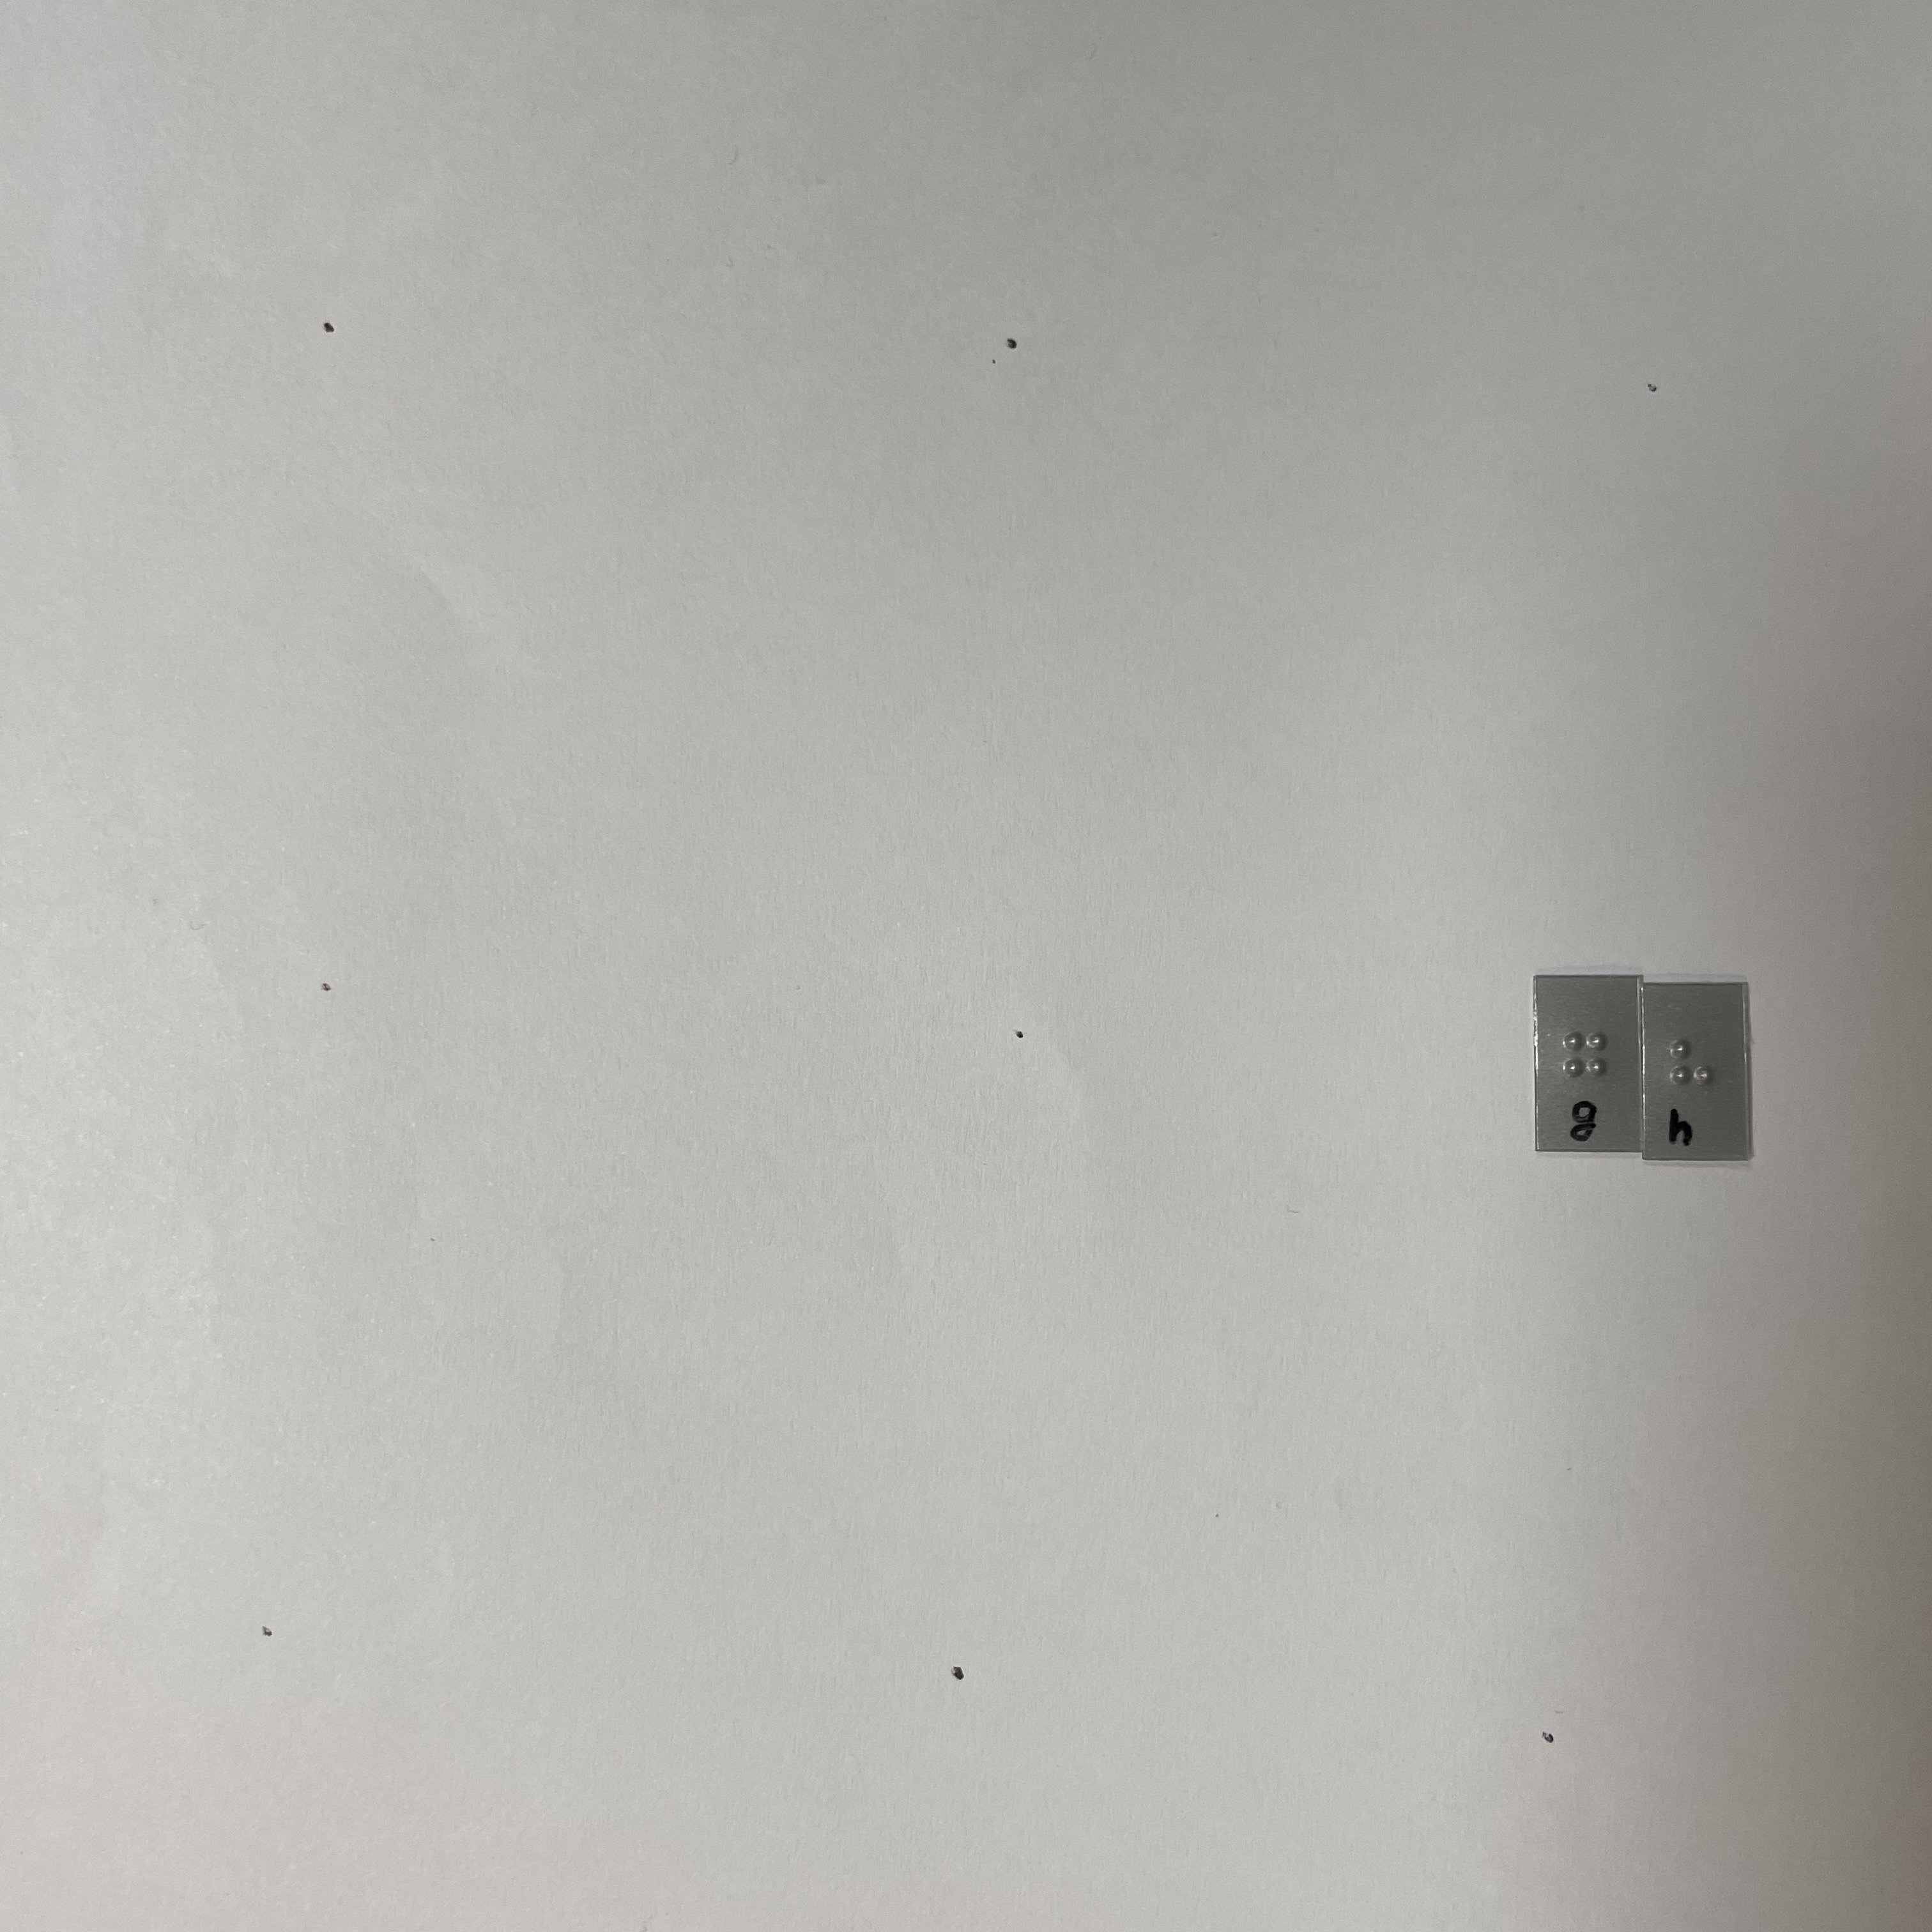g: (1557, 1018, 1621, 1105)
h: (1668, 1027, 1723, 1124)
